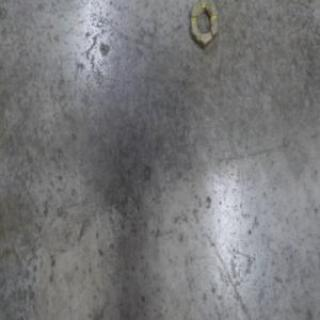Nuttrack_idkeyframe: (190, 0, 220, 49)
